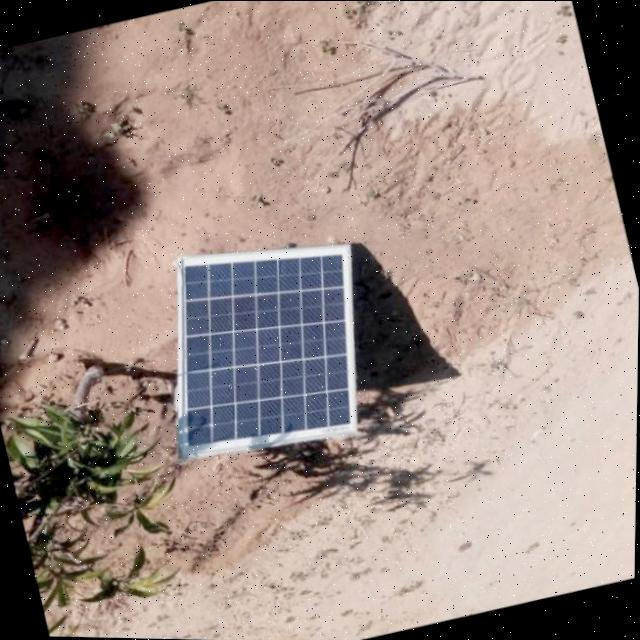Normal Solar Panel: (135, 216, 397, 476)
